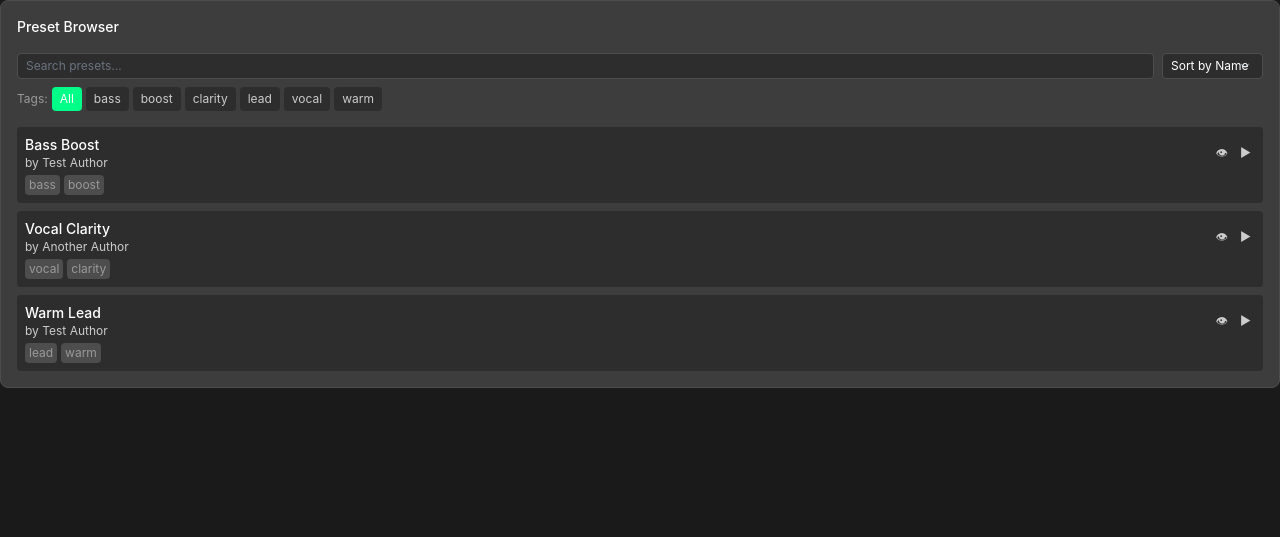
Test case: PluginPresetBrowser › should select preset and show details
Click the text "Warm Lead" at coordinates (63, 313), box x1=25 y1=303 x2=101 y2=323
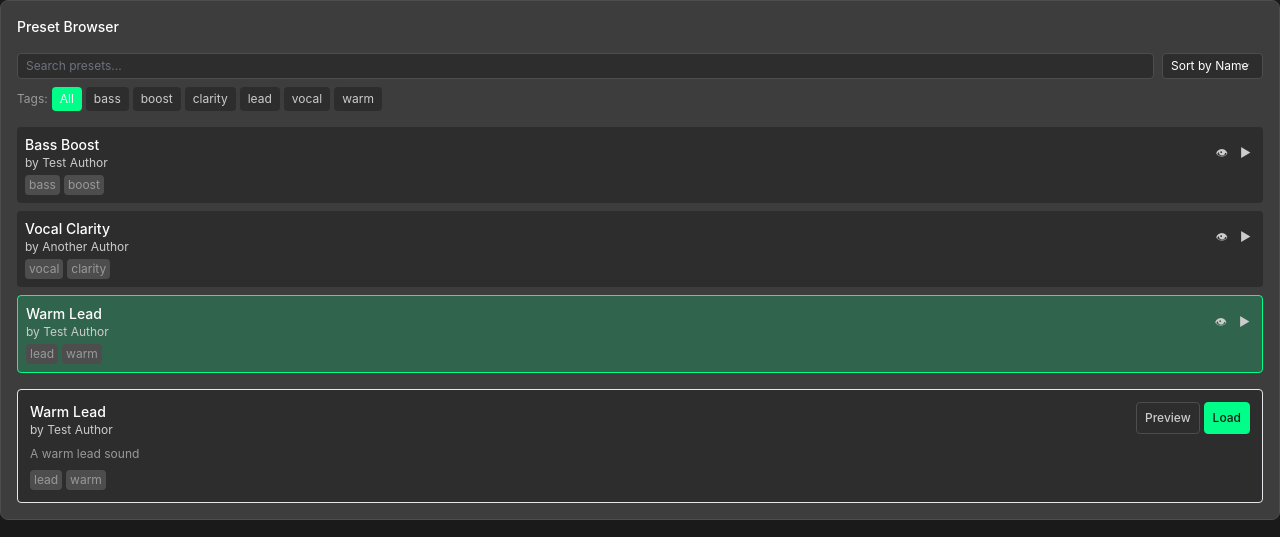
Expected: the 1st text "by Test Author" is shown, x1=25 y1=155 x2=108 y2=170
Expected: the text "A warm lead sound" is shown, x1=30 y1=446 x2=139 y2=461
